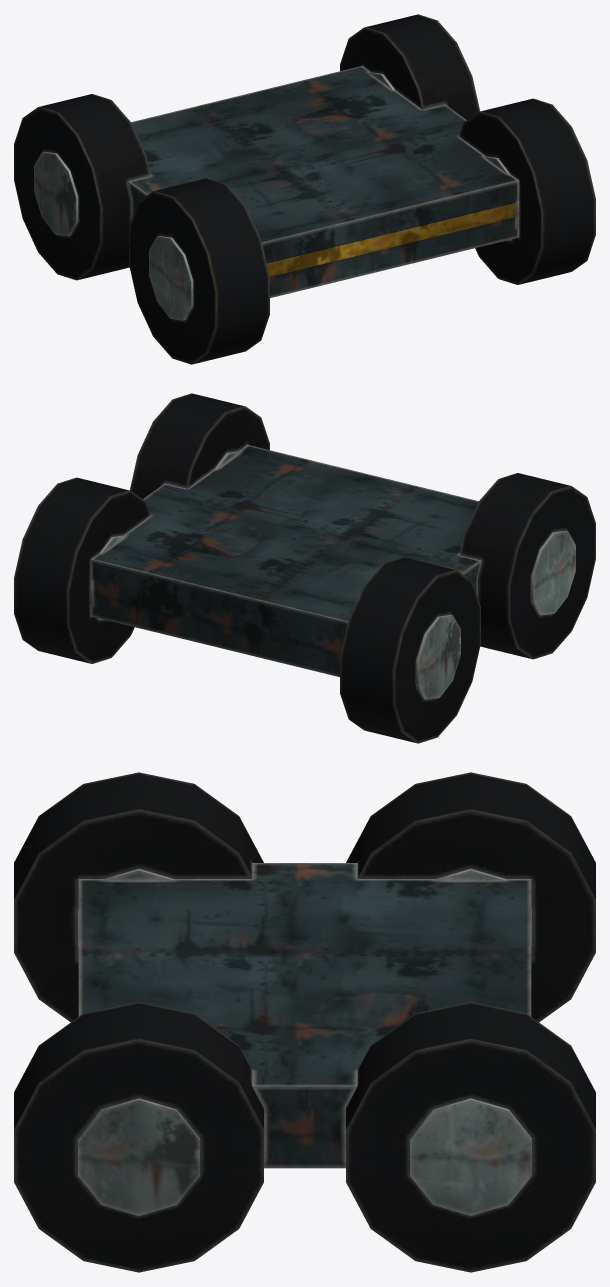
File: heavy_wheel.glb
3 views of the same model, one above another, from view 1: azimuth 30°, elevation 25°; view 2: azimuth 150°, elevation 25°; view 3: azimuth 270°, elevation 25° (orthographic). The views are drawn at different scales.
Visible parts, largest first — view 1: te_heavy_wheel; view 2: te_heavy_wheel; view 3: te_heavy_wheel.
Part boxes in pixels (<box>): te_heavy_wheel: <box>14,14,595,364</box>; te_heavy_wheel: <box>14,393,595,743</box>; te_heavy_wheel: <box>14,772,595,1272</box>.
Bounding box in the file's own units: 0.85 × 0.34 × 0.7715.
1 material, 1 textured.
